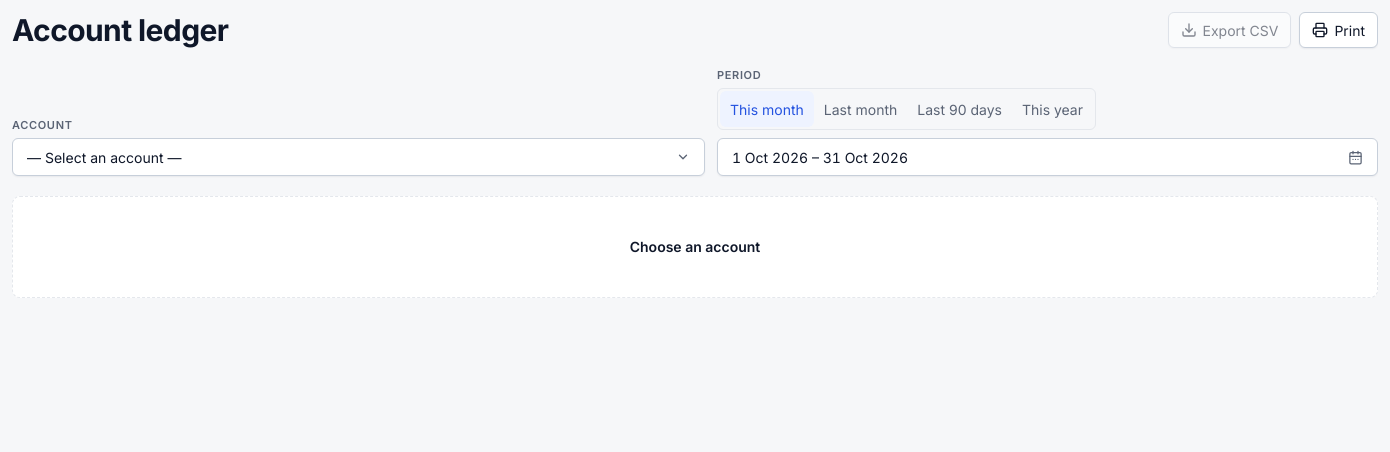
Test case: AccountLedgerReport › distinguishes an empty range from a failure
Step 1. Click the dropdown labelled "account" → (104,157), box x1=12 y1=138 x2=705 y2=176
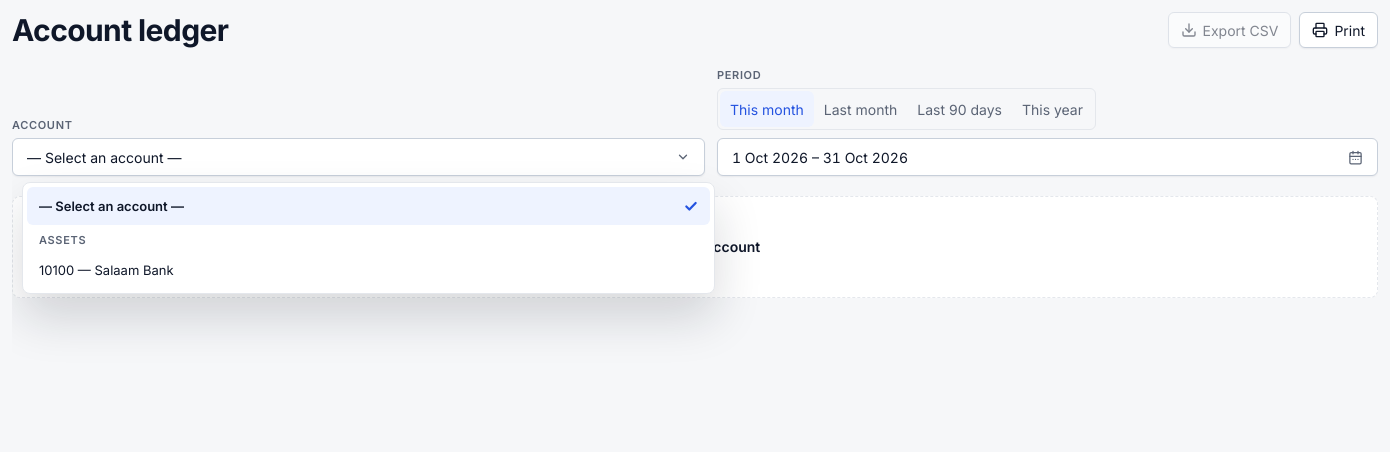
Step 2. Click the option "10100 — Salaam Bank" → (106,270), box x1=39 y1=262 x2=174 y2=278
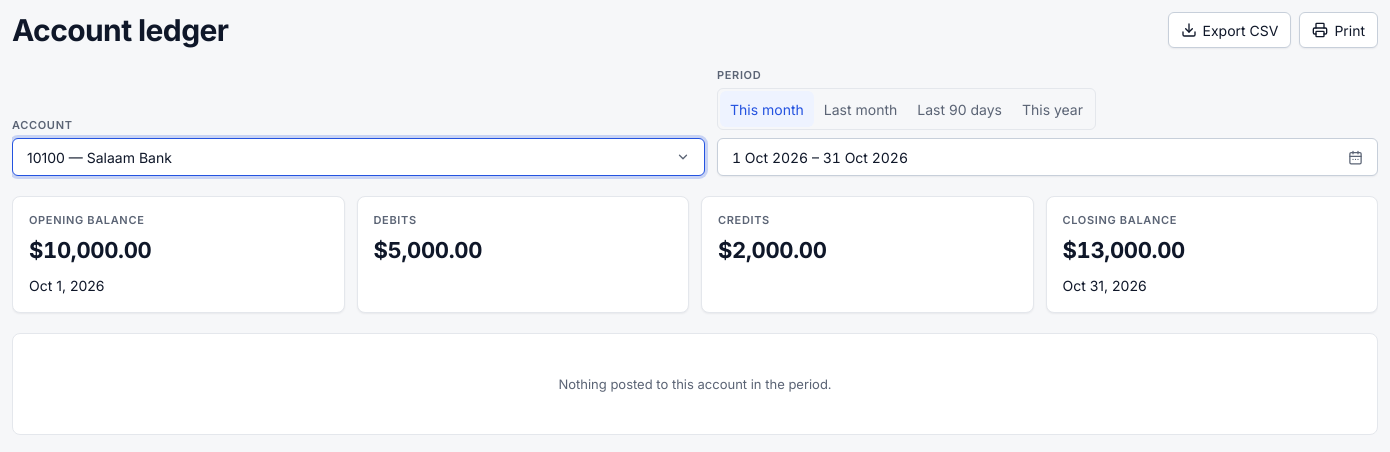
Check: the text "Nothing posted to this account in the period." is shown, box x1=558 y1=376 x2=832 y2=392
